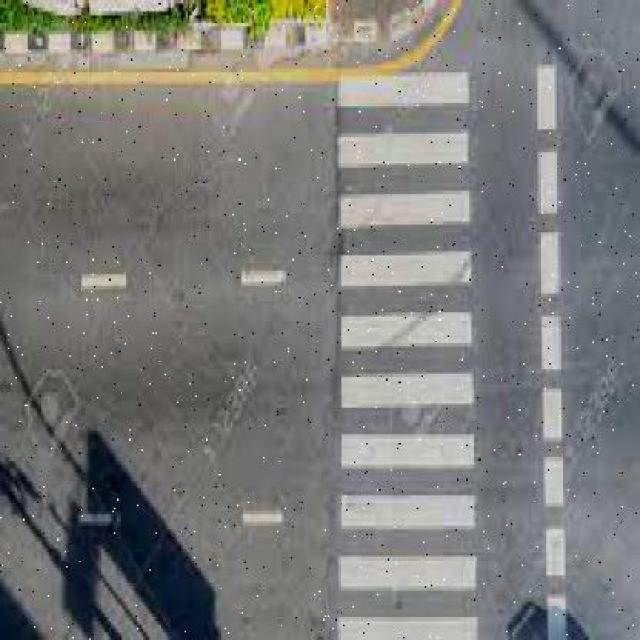crosswalk: (335, 72, 474, 636)
